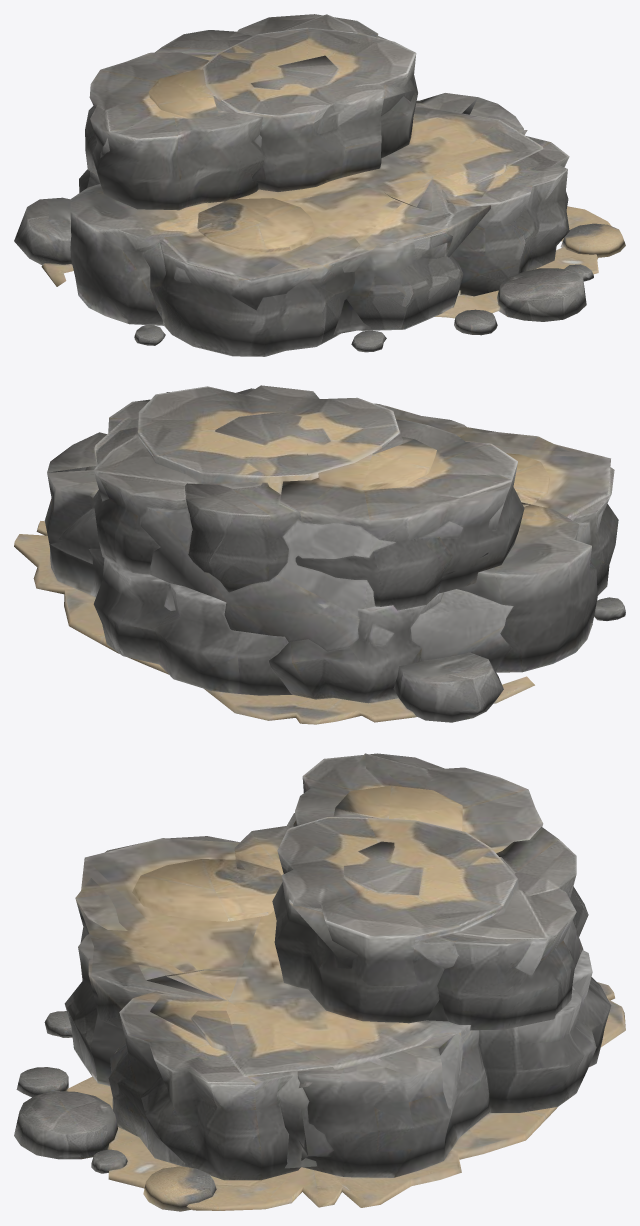
Rendered from Stone_Plateau_Sands.glb.
3 renders of one model, top to bottom at view 1: azimuth 30°, elevation 25°; view 2: azimuth 150°, elevation 25°; view 3: azimuth 270°, elevation 25°, orthographic. The views are drawn at different scales.
Bounding box in the file's own units: 1 × 0.3271 × 0.8965.
Materials: 1 (1 with a texture image).
